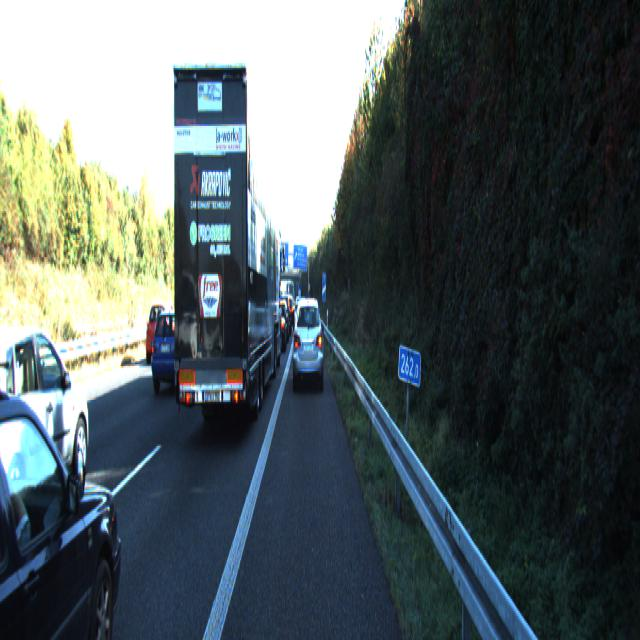Car: (173, 58, 281, 444), (0, 358, 128, 638), (0, 315, 93, 536), (151, 308, 201, 395), (292, 294, 324, 389), (146, 299, 183, 363), (268, 304, 287, 350)
